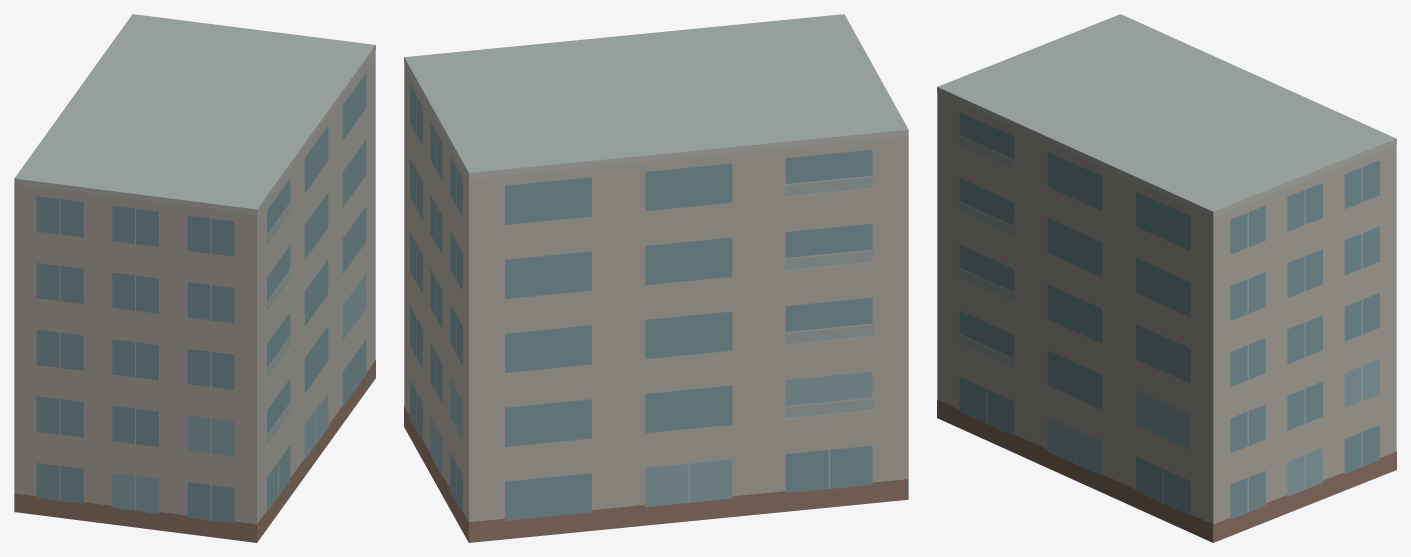
File: survey-upis-32974772.glb
3 views of the same model, side by side, from view 1: azimuth 30°, elevation 25°; view 2: azimuth 150°, elevation 25°; view 3: azimuth 270°, elevation 25° (orthographic). The views are drawn at different scales.
Visible parts, largest first — view 1: survey-upis-32974772.tmp; view 2: survey-upis-32974772.tmp; view 3: survey-upis-32974772.tmp.
Part boxes in pixels (box(x1,y1,x2,y2)): survey-upis-32974772.tmp: box(14, 14, 375, 542); survey-upis-32974772.tmp: box(404, 14, 908, 542); survey-upis-32974772.tmp: box(937, 14, 1396, 542).
Bounding box in the file's own units: 19.22 × 15 × 18.88.
